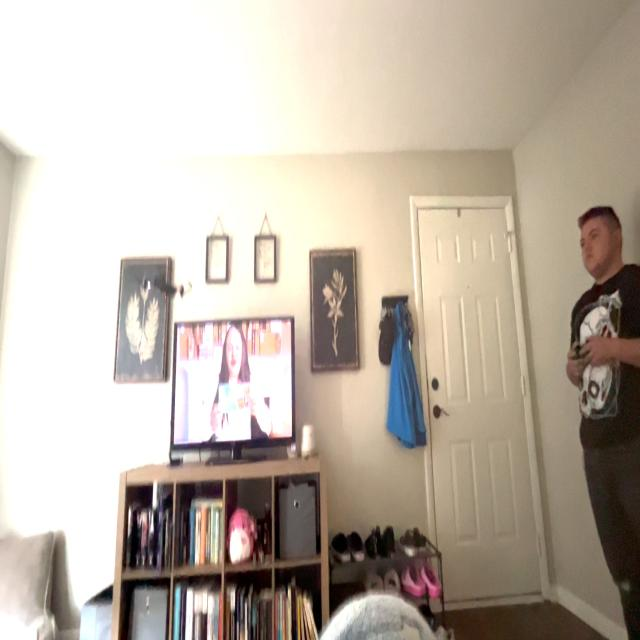drone: (141, 259, 198, 318)
